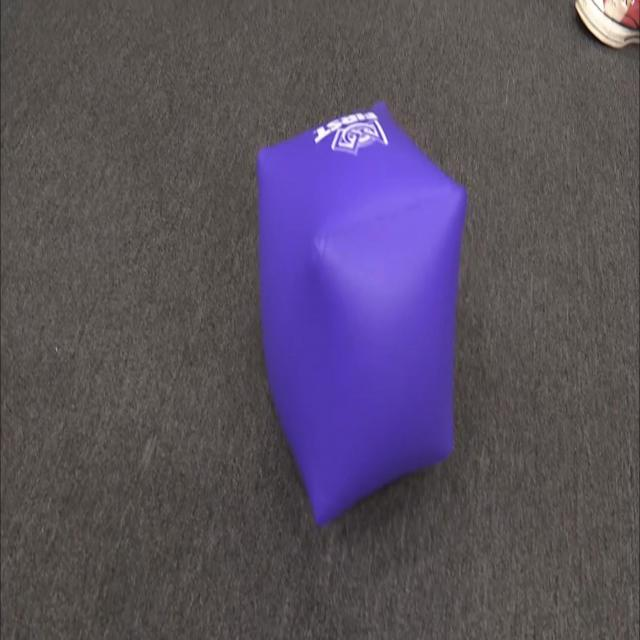frc_cube: (246, 83, 474, 534)
